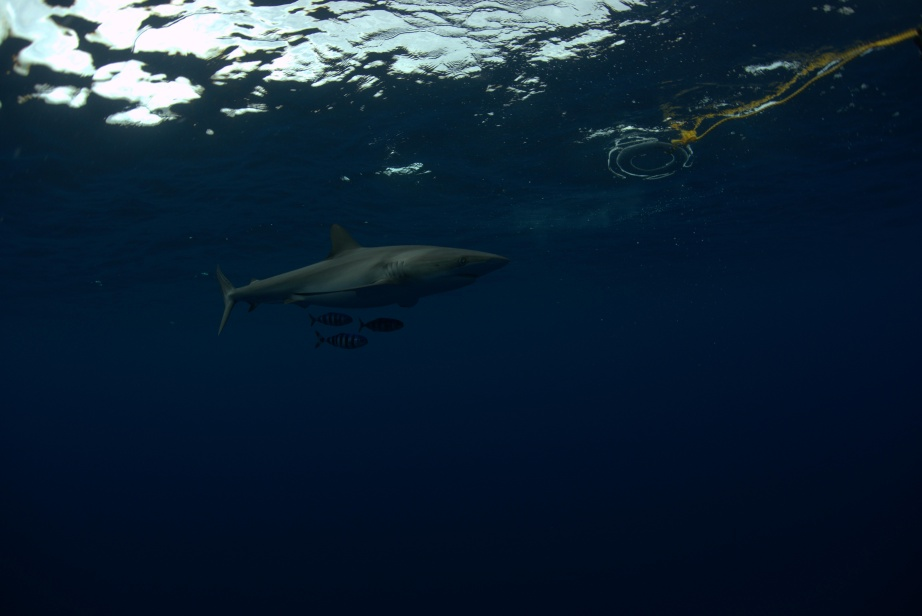Sedoso: (189, 213, 513, 350)
